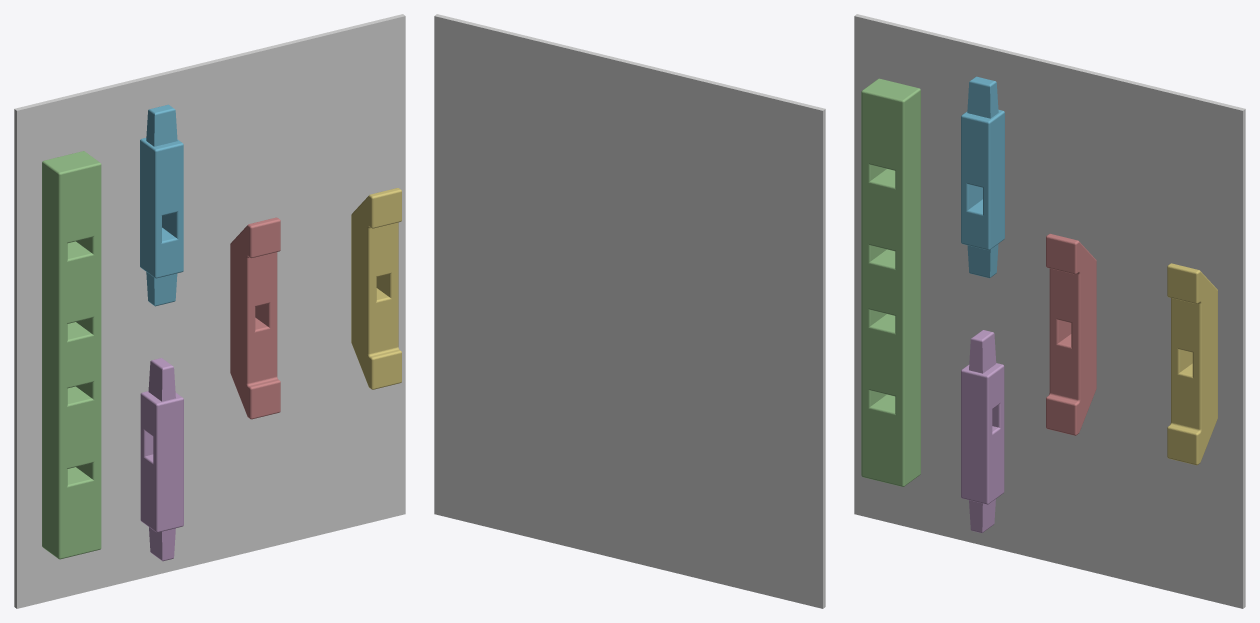
The model's file is pickup_layout.glb.
3 views of the same model, side by side, from view 1: azimuth 30°, elevation 25°; view 2: azimuth 150°, elevation 25°; view 3: azimuth 330°, elevation 25° (orthographic).
Visible parts, largest first — view 1: world, 6.obj, 0.obj, 1.obj, 2.obj, 3.obj; view 2: world; view 3: world, 6.obj, 0.obj, 1.obj, 2.obj, 3.obj.
Part boxes in pixels (box(x1,y1,x2,y2)): world: box(14, 14, 405, 608); 6.obj: box(42, 151, 101, 559); 0.obj: box(230, 217, 280, 419); 1.obj: box(351, 188, 401, 389); 2.obj: box(140, 104, 183, 306); 3.obj: box(140, 358, 183, 561); world: box(434, 14, 825, 608); world: box(854, 14, 1245, 608); 6.obj: box(861, 78, 920, 486); 0.obj: box(1046, 233, 1096, 435); 1.obj: box(1167, 263, 1217, 465); 2.obj: box(961, 76, 1004, 278); 3.obj: box(961, 330, 1004, 532).
Size of the model in its own units: 16.02 by 19.62 by 1.72.
